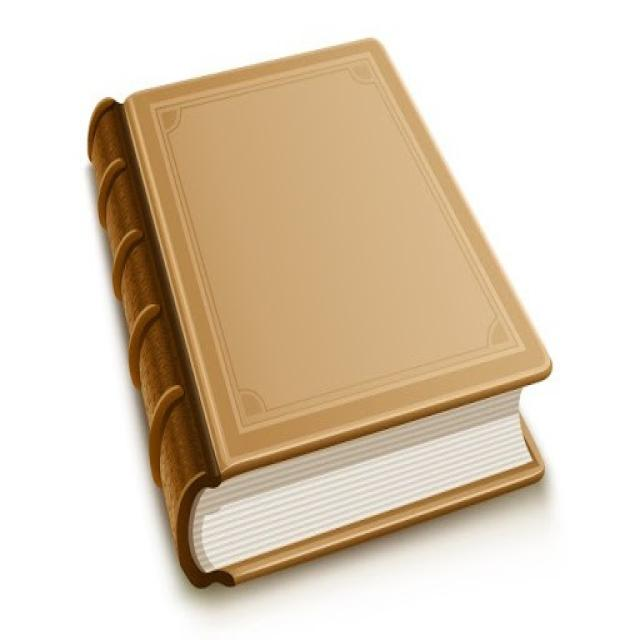book: (66, 26, 569, 624)
